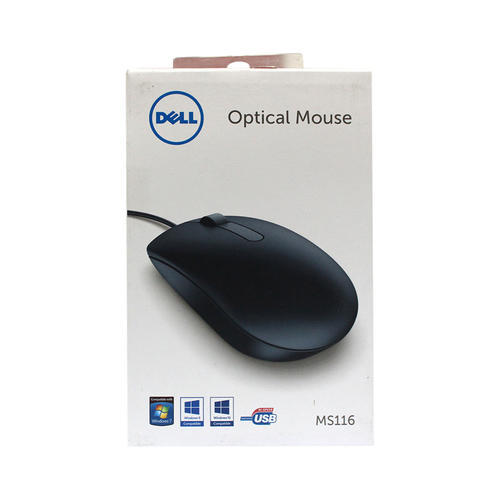dell-mouse-ms116: (124, 200, 361, 370)
